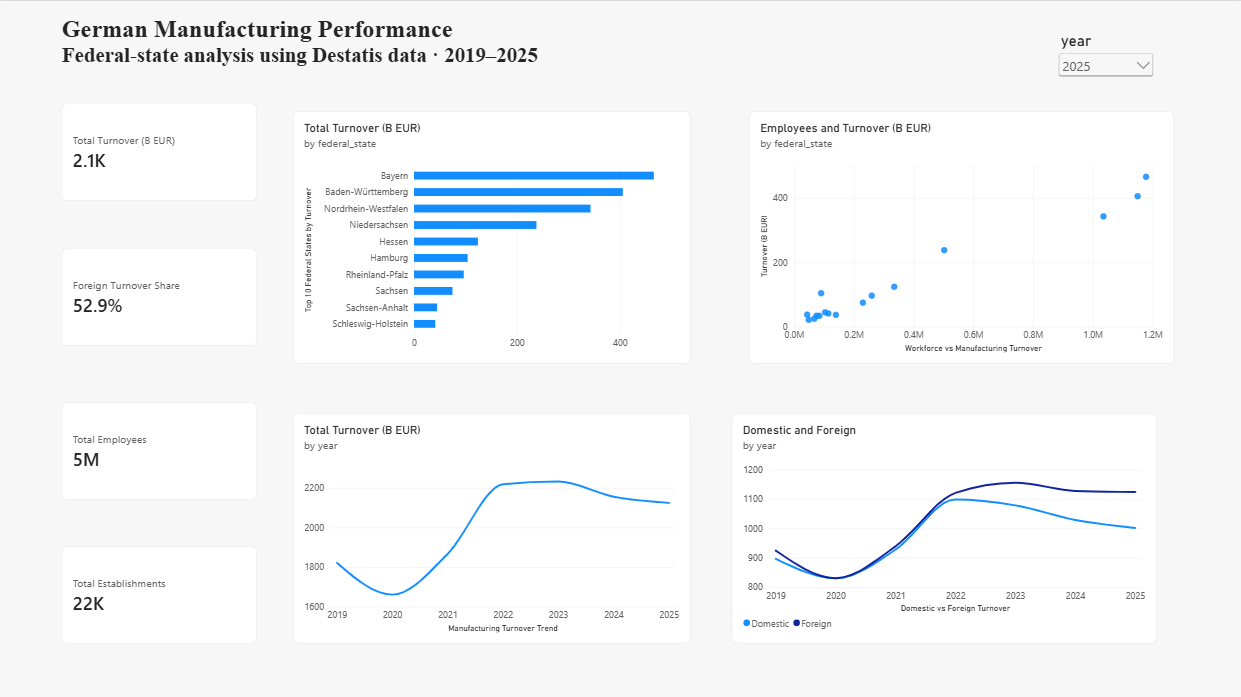

This screenshot's page, from the dashboard's own definition file:
{"tool":"powerbi","page":{"name":"Overview","canvas":[1920,1080],"ordinal":0},"visuals":[{"type":"textbox","box":[98.1,21.2,886.5,111.5],"z":0},{"type":"slicer","fields":{"Values":["Manufacturing.year"]},"box":[1626.9,46.2,155.8,111.5],"z":1000},{"type":"cardVisual","fields":{"Data":["Manufacturing.Total Turnover (B EUR)"]},"box":[98.1,157.7,300,150],"z":2000},{"type":"cardVisual","fields":{"Data":["Manufacturing.Foreign Turnover Share"]},"box":[98.1,380.8,300,150],"z":3000},{"type":"cardVisual","fields":{"Data":["Manufacturing.Total Employees"]},"box":[98.1,617.3,300,150],"z":4000},{"type":"cardVisual","fields":{"Data":["Manufacturing.Total Establishments"]},"box":[98.1,838.5,300,150],"z":5000},{"type":"lineChart","fields":{"Category":["Manufacturing.year"],"Y":["Manufacturing.Total Turnover (B EUR)"]},"box":[453.8,634.6,611.5,353.8],"z":6000},{"type":"clusteredBarChart","fields":{"Category":["Manufacturing.federal_state"],"Y":["Manufacturing.Total Turnover (B EUR)"]},"box":[453.8,169.2,611.5,388.5],"z":7000},{"type":"lineChart","fields":{"Category":["Manufacturing.year"],"Y":["Manufacturing.Domestic Turnover (B EUR)","Manufacturing.Foreign Turnover (B EUR)"]},"box":[1128.8,634.6,653.8,353.8],"z":8000},{"type":"scatterChart","fields":{"Category":["Manufacturing.federal_state"],"X":["Sum(Manufacturing.employees)"],"Y":["Manufacturing.Total Turnover (B EUR)"]},"box":[1155.8,169.2,653.8,388.5],"z":9000}]}

Visuals, with their boxes in screenshot pixels (x1, y1, x2, y2), scaled from the page's 1920x1080 canvas onto the 1241x697 screenshot:
textbox: <box>63,14,636,86</box>
slicer - Manufacturing.year: <box>1052,30,1152,102</box>
cardVisual - Manufacturing.Total Turnover (B EUR): <box>63,102,257,199</box>
cardVisual - Manufacturing.Foreign Turnover Share: <box>63,246,257,343</box>
cardVisual - Manufacturing.Total Employees: <box>63,398,257,495</box>
cardVisual - Manufacturing.Total Establishments: <box>63,541,257,638</box>
lineChart - Manufacturing.year x Manufacturing.Total Turnover (B EUR): <box>293,410,689,638</box>
clusteredBarChart - Manufacturing.federal_state x Manufacturing.Total Turnover (B EUR): <box>293,109,689,360</box>
lineChart - Manufacturing.year x Manufacturing.Domestic Turnover (B EUR): <box>730,410,1152,638</box>
scatterChart - Manufacturing.federal_state x Sum(Manufacturing.employees): <box>747,109,1170,360</box>
